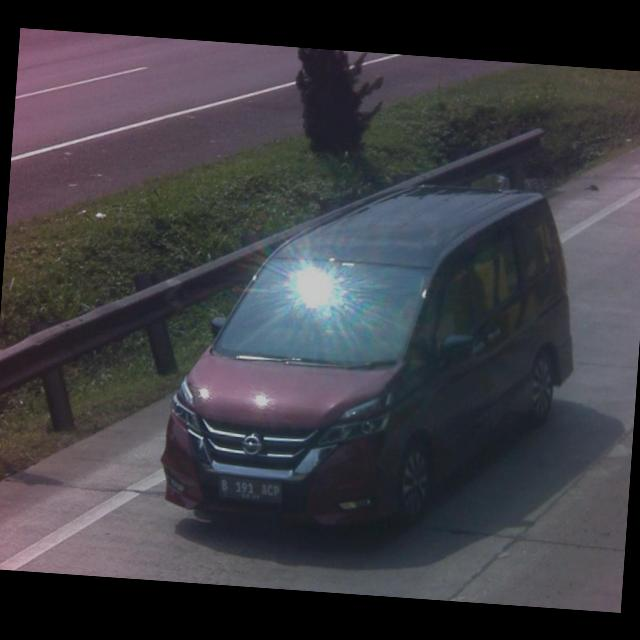plate: (214, 474, 284, 506)
